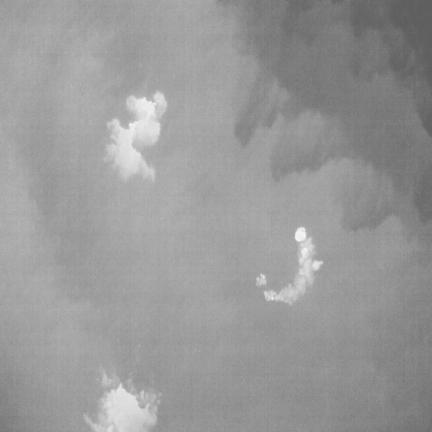flukeprints: (106, 92, 167, 180), (295, 227, 305, 241)
